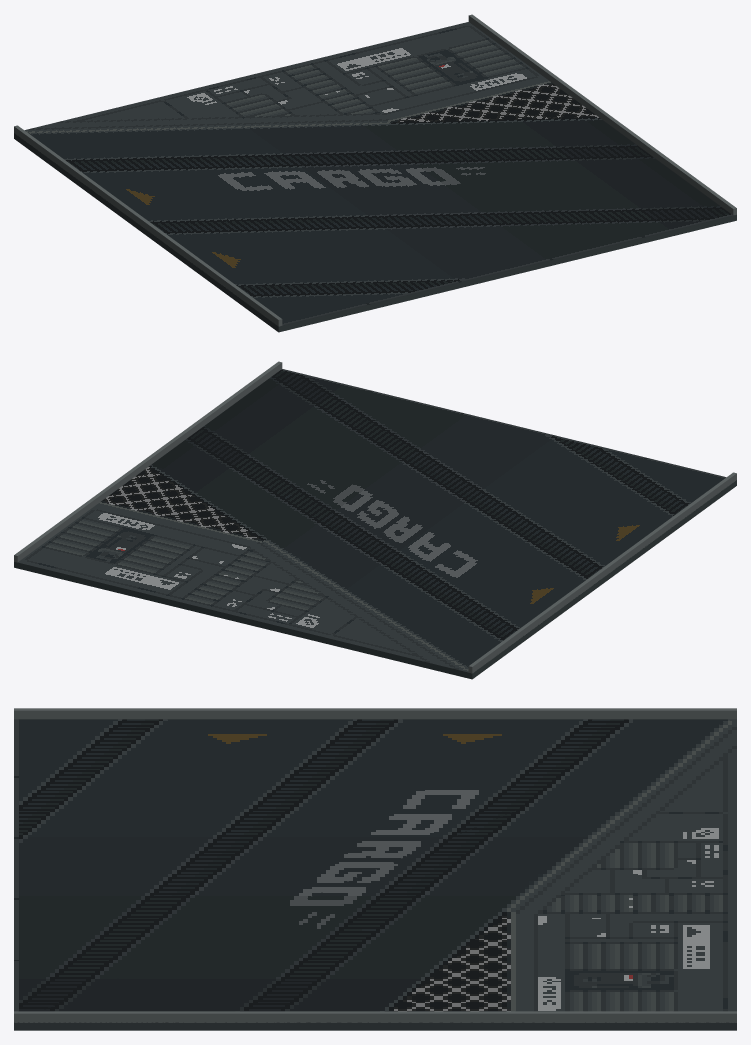
File: CMU3DReduxAU14CorporateASRSElevator.glb
3 views of the same model, one above another, from view 1: azimuth 30°, elevation 25°; view 2: azimuth 150°, elevation 25°; view 3: azimuth 270°, elevation 25° (orthographic). The views are drawn at different scales.
Parts seen in each view (by area): view 1: source upper face, lift edge rail (×2), closed lift platform; view 2: source upper face, lift edge rail (×2), closed lift platform; view 3: source upper face, lift edge rail (×2), closed lift platform.
Boxes of the visible parts, x1,y1,x2,y2 form: source upper face: (24,22,734,325); lift edge rail (×2): (14,14,736,326); closed lift platform: (14,133,736,332); source upper face: (17,369,726,673); lift edge rail (×2): (14,361,736,673); closed lift platform: (14,480,736,679); source upper face: (14,719,736,1022); lift edge rail (×2): (14,708,736,1022); closed lift platform: (14,1023,736,1030).
Bounding box in the file's own units: 5 × 0.13 × 5.
3 materials, 1 textured.
